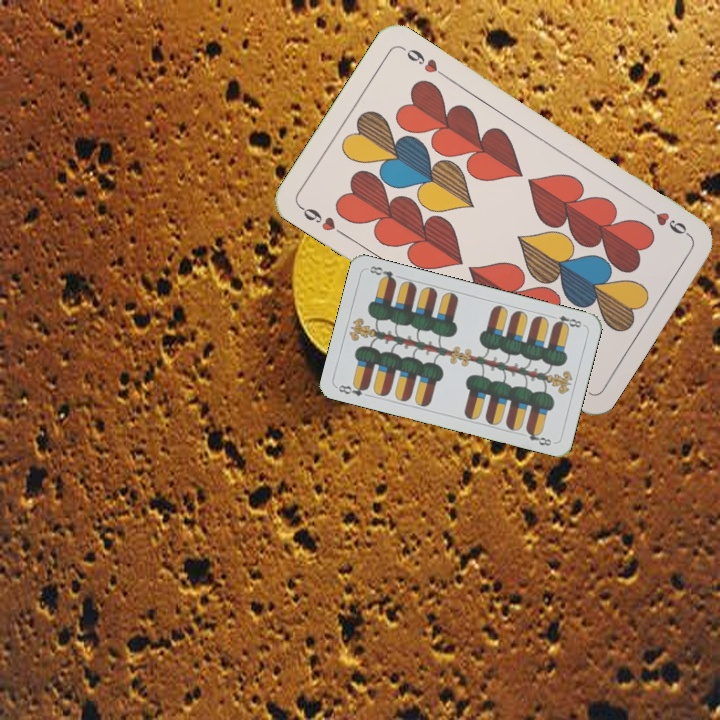E8: (547, 311, 586, 331), (334, 379, 371, 399)
H9: (641, 201, 693, 240), (295, 202, 348, 239)
